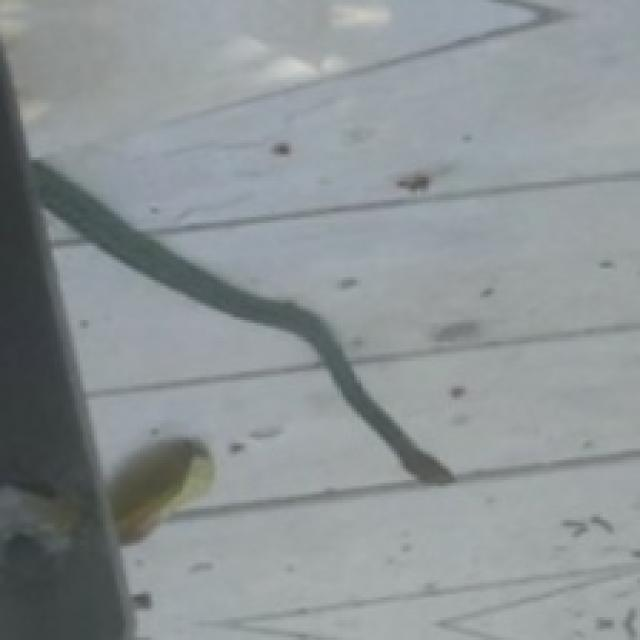paradise tree snake: (34, 163, 451, 480)
